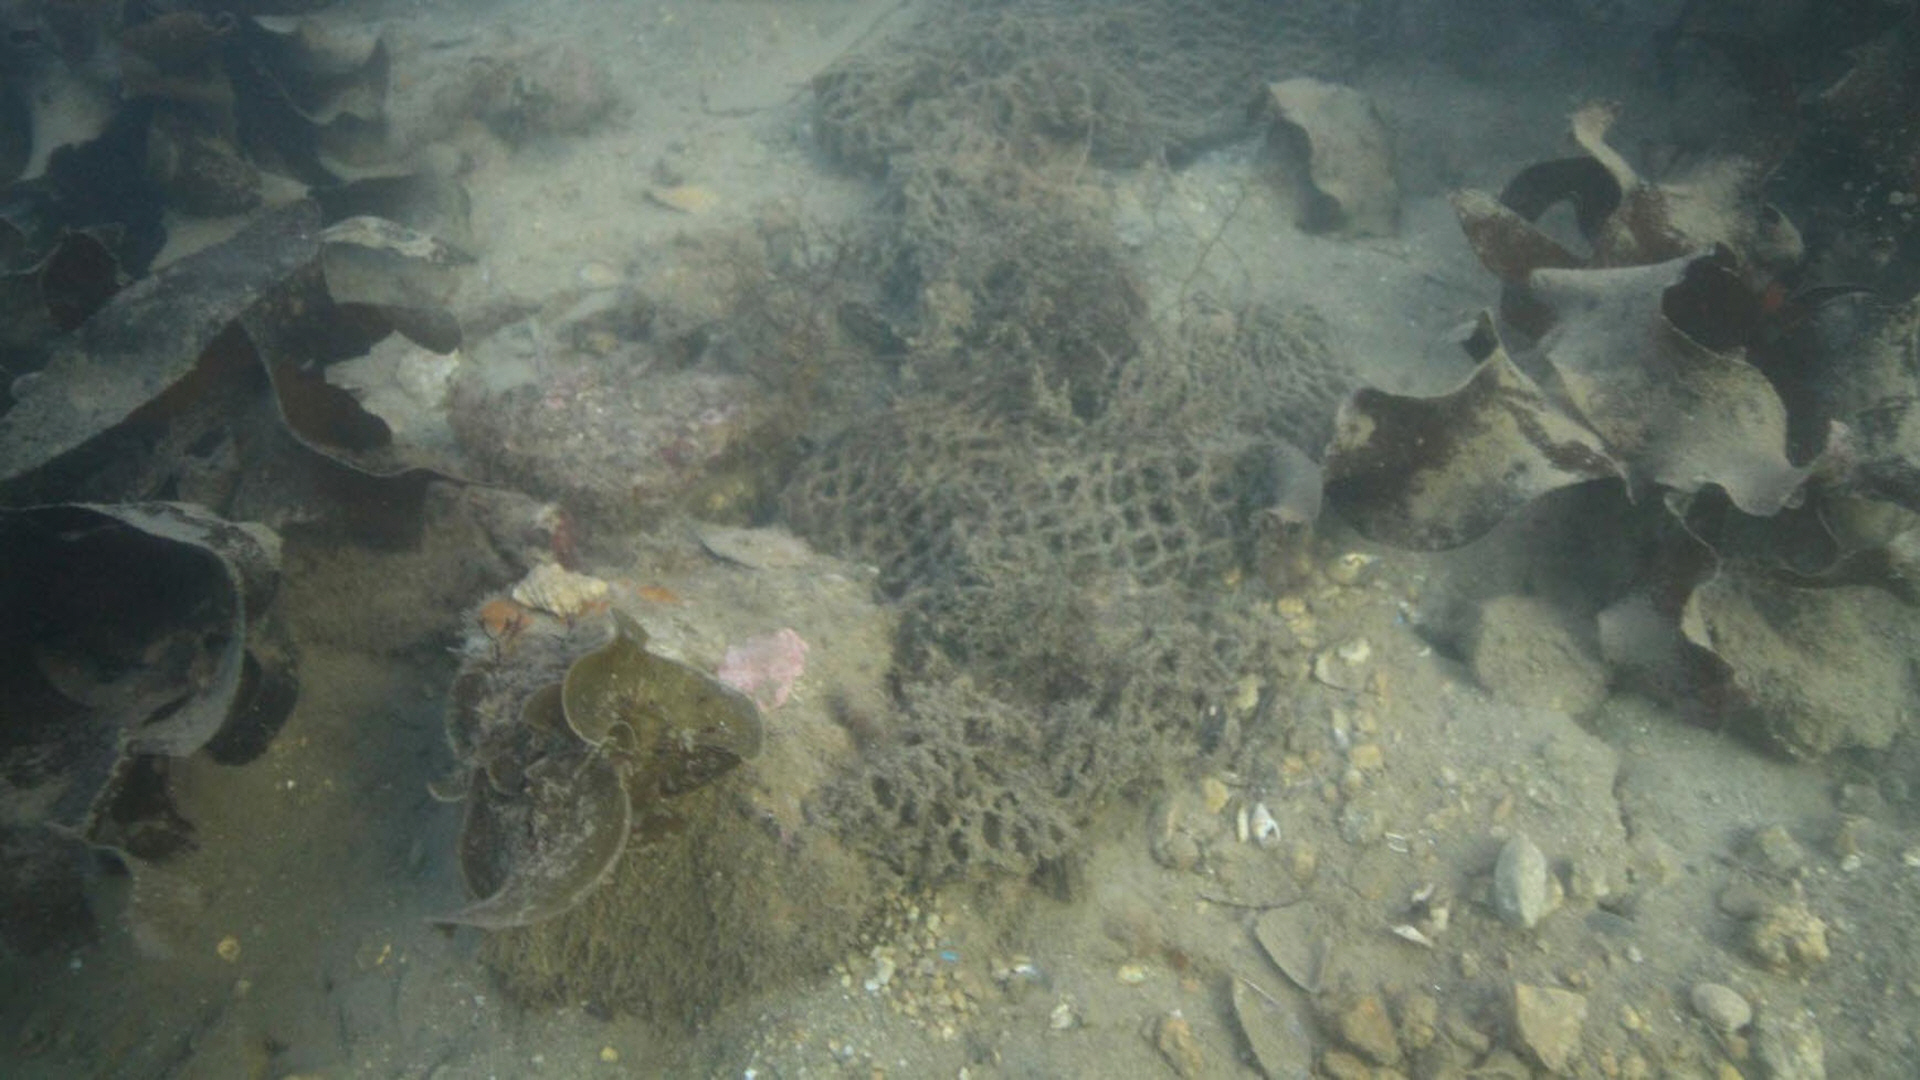fish net: (773, 0, 1360, 866)
